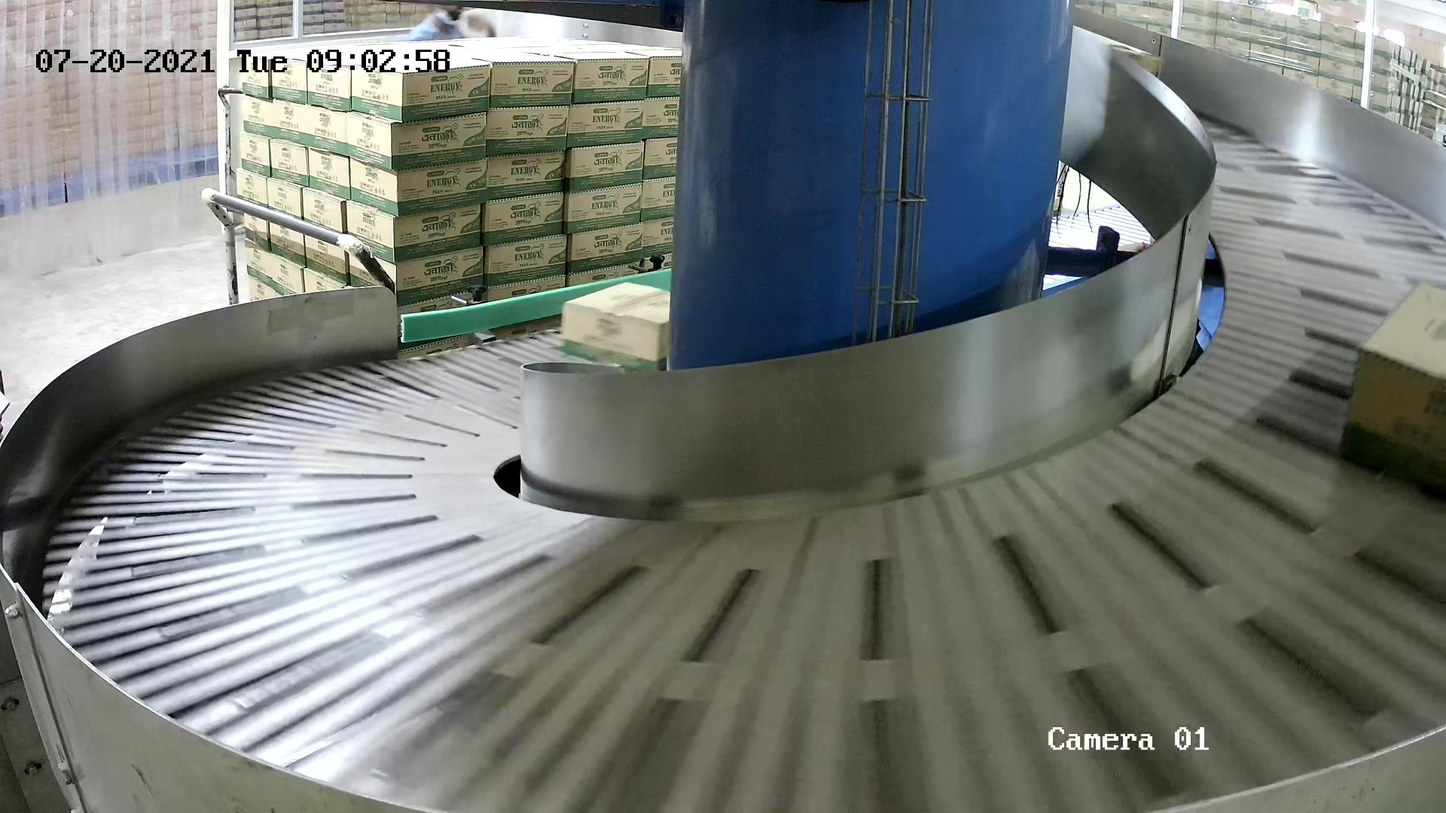Box: (1338, 277, 1446, 503), (560, 280, 671, 376)
